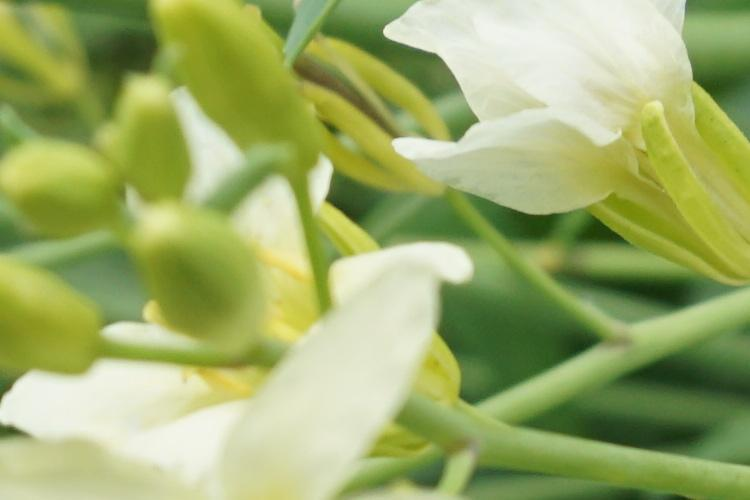bud: (141, 211, 263, 350), (3, 260, 116, 385), (97, 68, 194, 211), (5, 129, 126, 239)
white: (32, 229, 461, 499), (393, 2, 740, 258)
